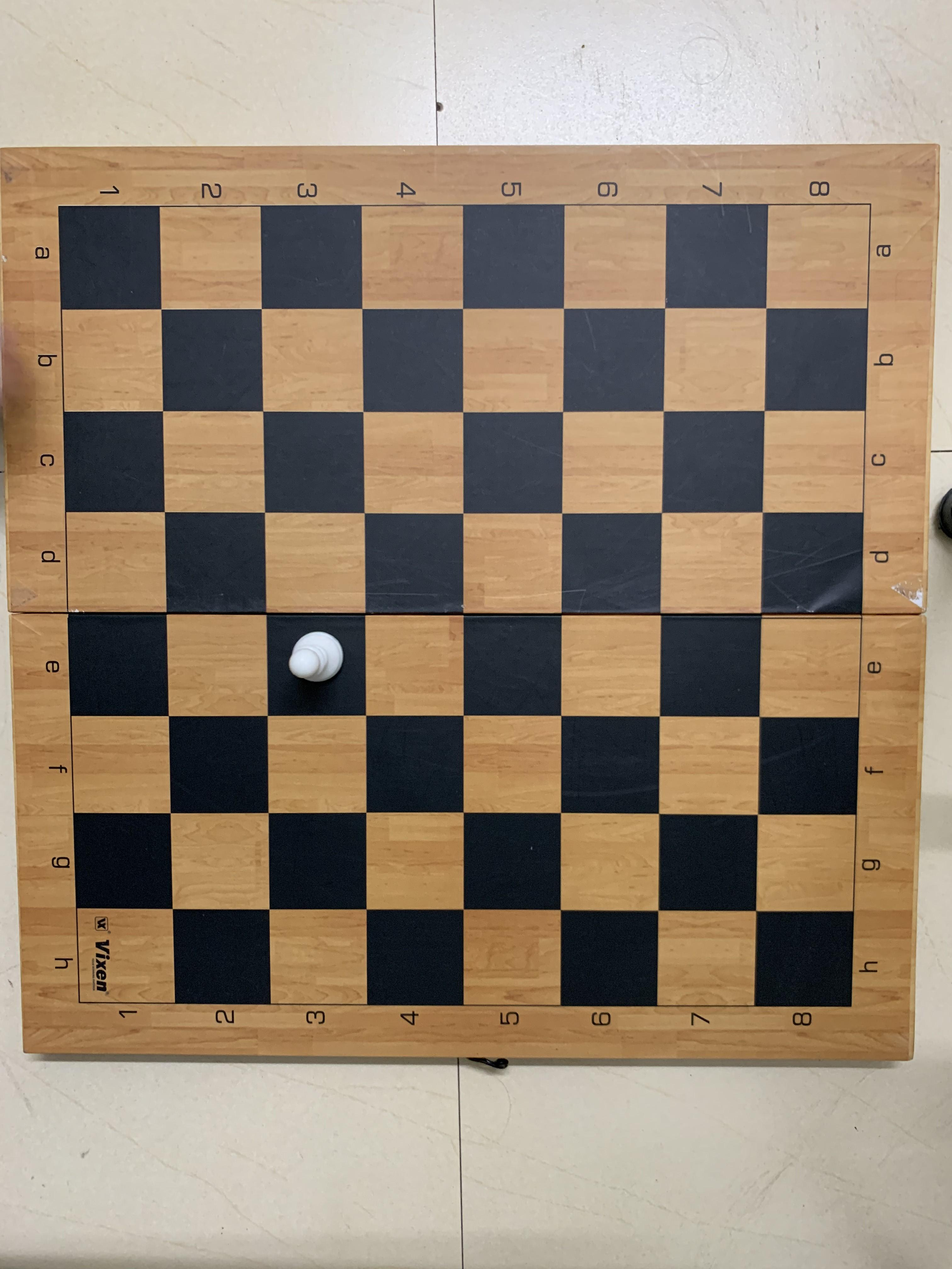white_pawn: (268, 609, 360, 711)
